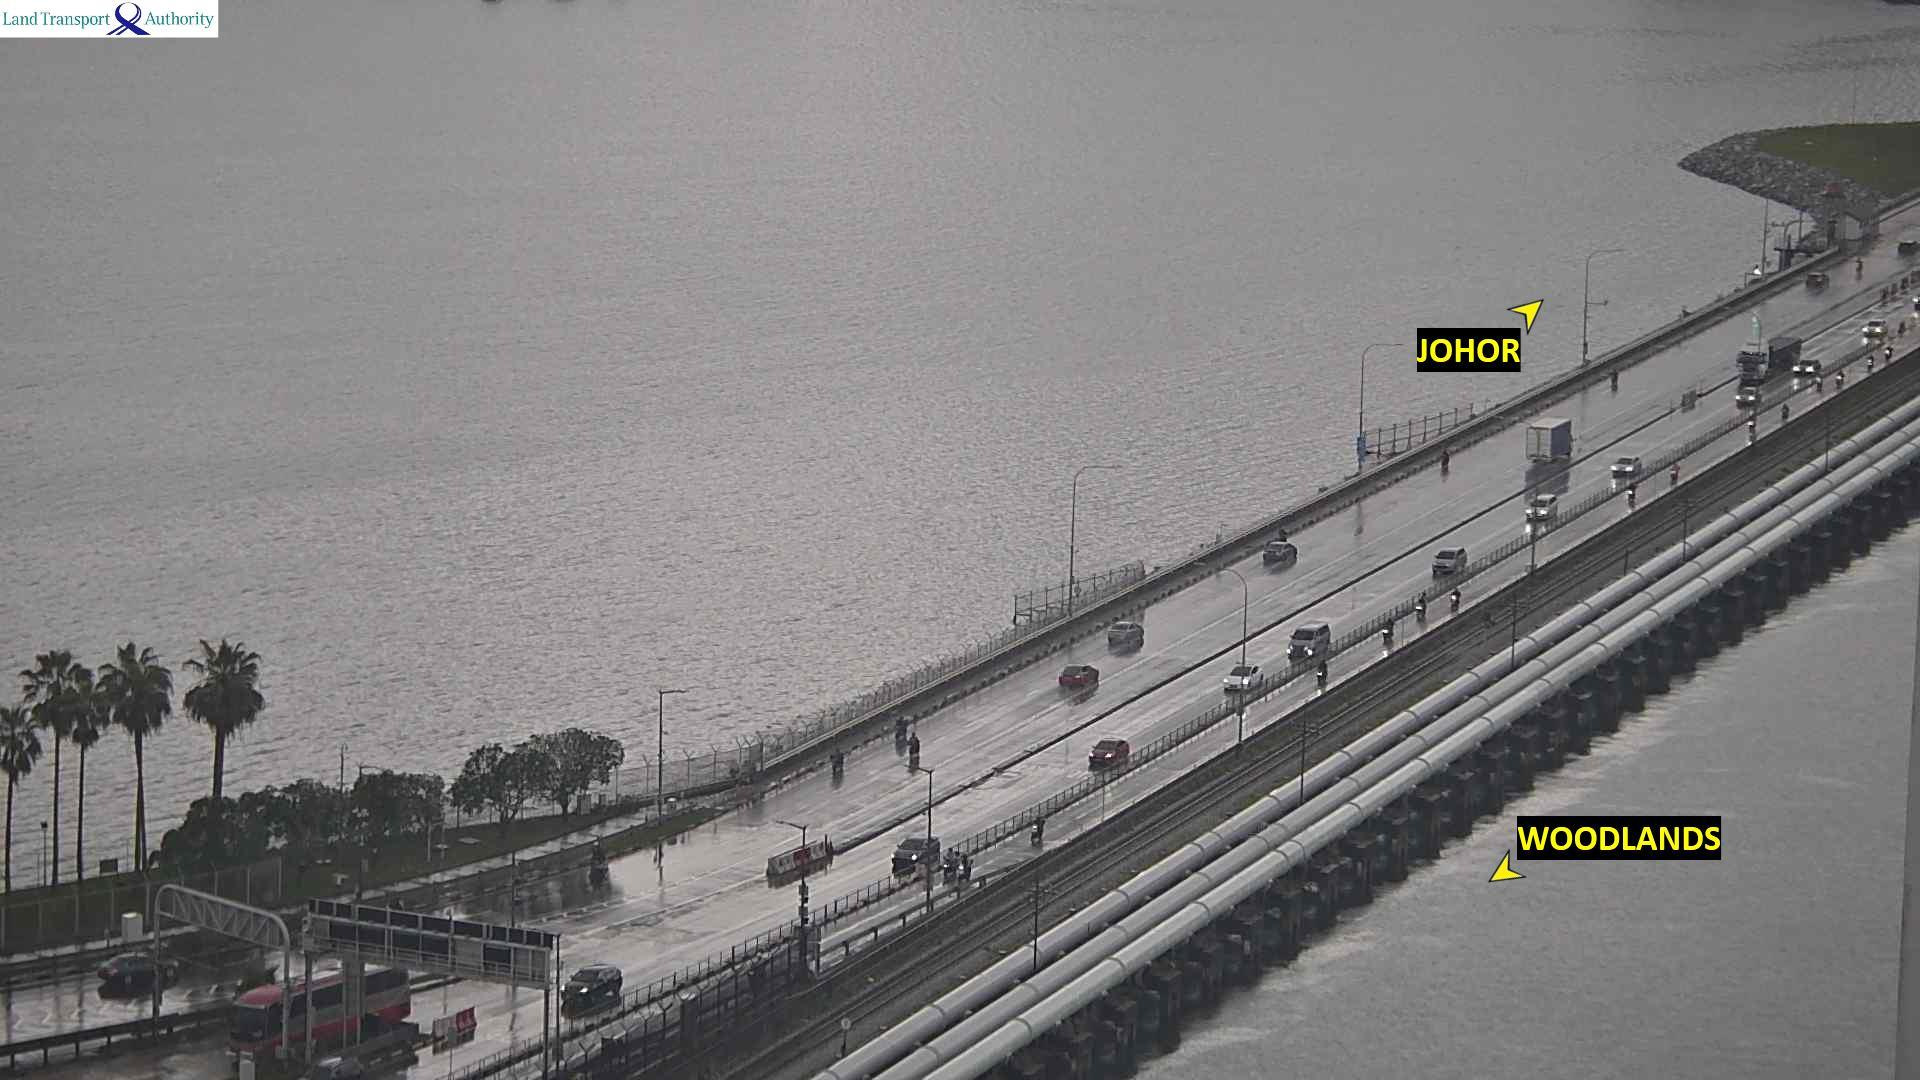vehicle-causeway-johor: (99, 955, 178, 988), (1527, 415, 1572, 465), (1108, 618, 1145, 646), (1059, 663, 1098, 686), (591, 839, 609, 885), (1265, 539, 1296, 564), (909, 732, 920, 775), (1805, 272, 1829, 289), (832, 749, 847, 774), (1899, 239, 1919, 256), (897, 717, 906, 738), (1441, 448, 1449, 472), (1610, 368, 1618, 390), (1855, 257, 1861, 278)
vehicle-causeway-singapore: (228, 964, 409, 1062), (1735, 338, 1800, 384), (562, 964, 622, 1006), (1286, 621, 1331, 659), (890, 836, 940, 868), (1088, 738, 1130, 767), (1224, 663, 1263, 692), (1433, 547, 1466, 576), (1526, 493, 1559, 521), (1610, 456, 1642, 479), (1863, 319, 1888, 339), (1029, 815, 1046, 843), (1737, 386, 1759, 406), (1792, 361, 1821, 375), (1381, 616, 1394, 644), (1316, 659, 1328, 683), (1416, 596, 1427, 618), (1813, 376, 1825, 393), (1451, 588, 1460, 608), (1627, 483, 1636, 502), (1669, 463, 1680, 480), (1834, 369, 1844, 388), (1865, 353, 1874, 372), (1883, 345, 1892, 359), (1746, 417, 1754, 431), (1782, 404, 1789, 418), (1896, 320, 1904, 335), (1913, 295, 1920, 310)
